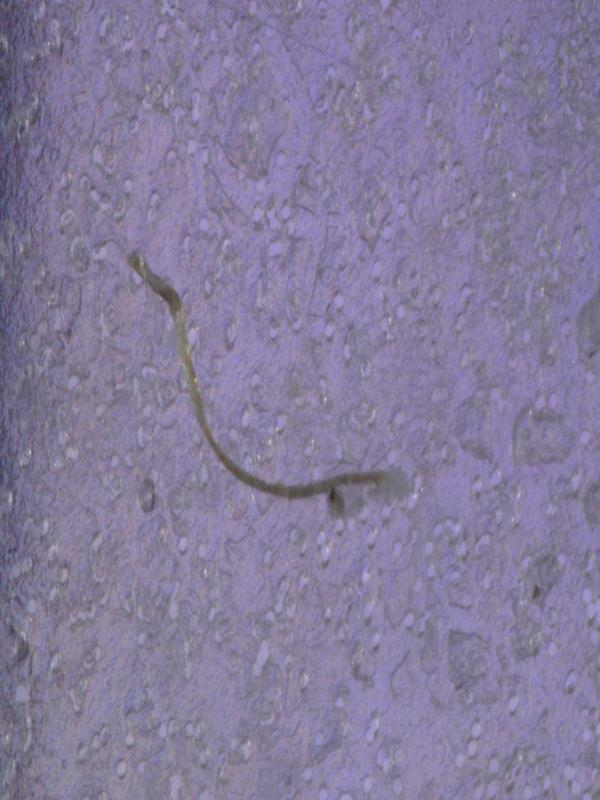microplastic: (127, 245, 410, 514)
